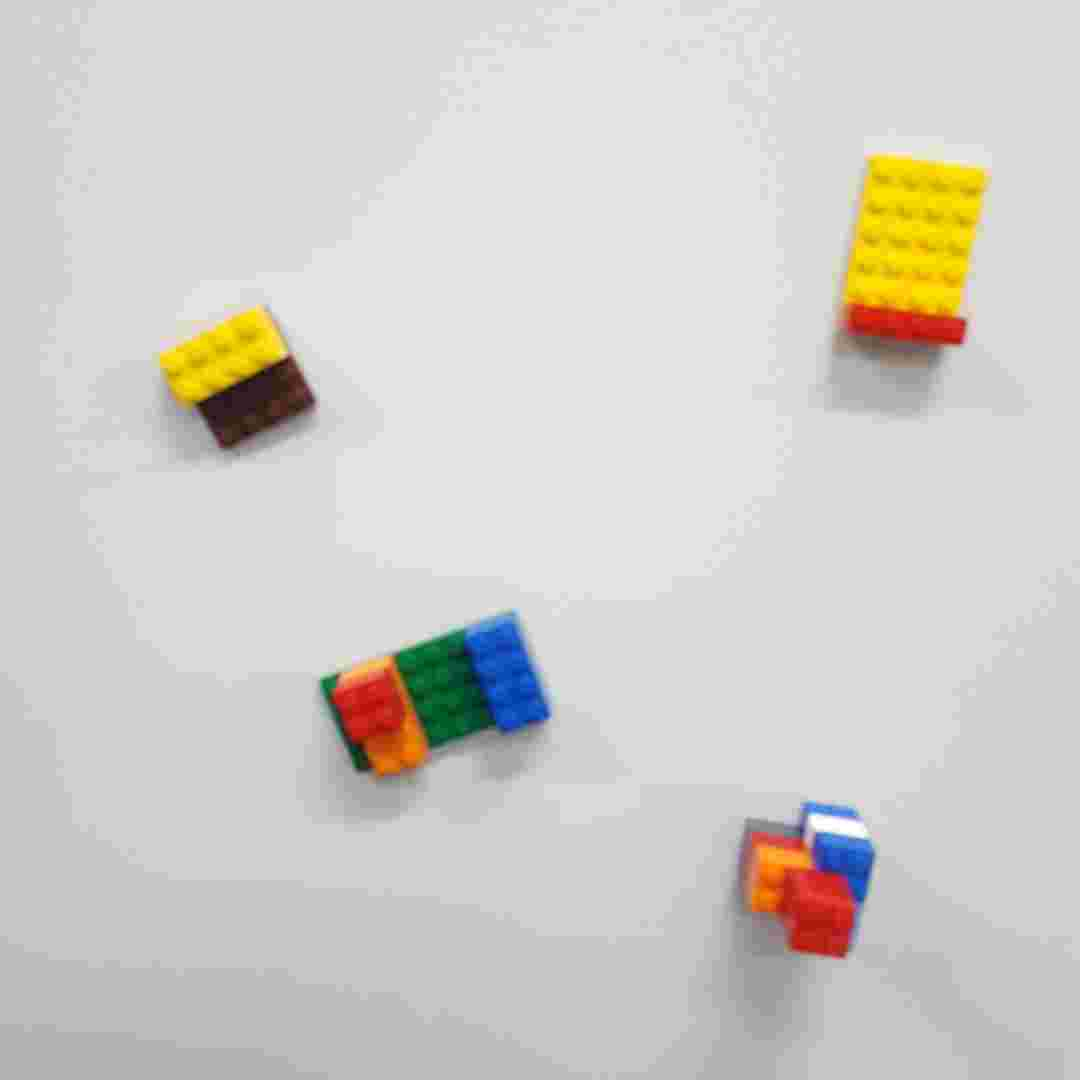LEGO: (316, 608, 556, 776), (831, 152, 989, 355), (159, 301, 320, 453), (741, 795, 874, 966)
